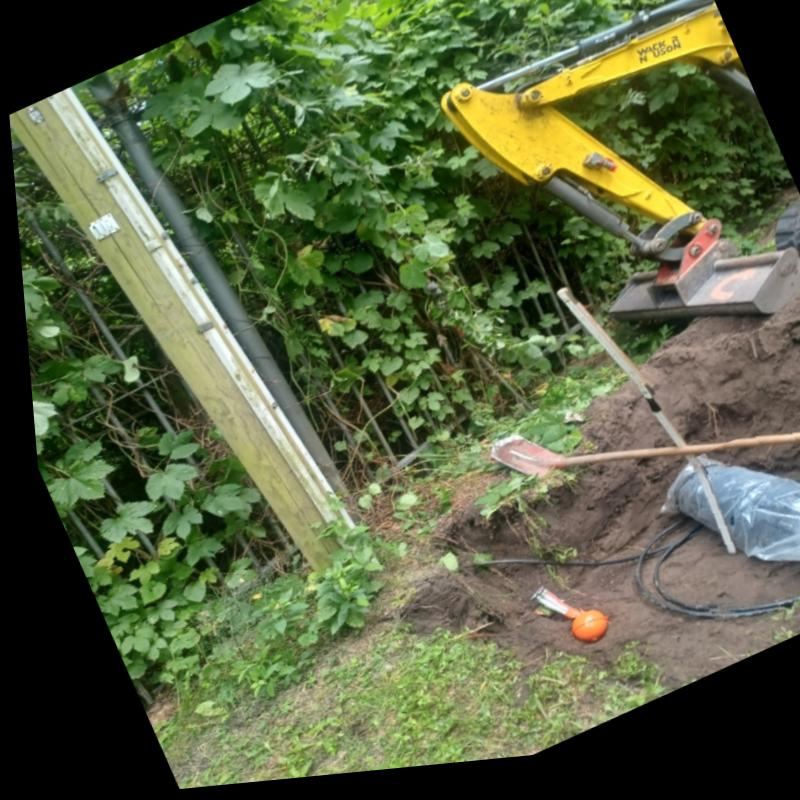Kugelmarker: (561, 622, 596, 651)
NT-Muffen: (650, 467, 800, 579)
Orang-Speednetrohrchen: (522, 599, 570, 629)
